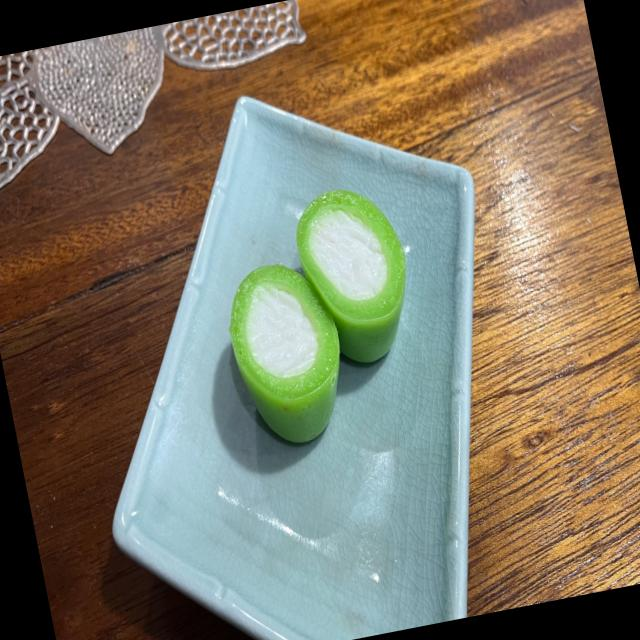nona-manis: (230, 264, 340, 443)
